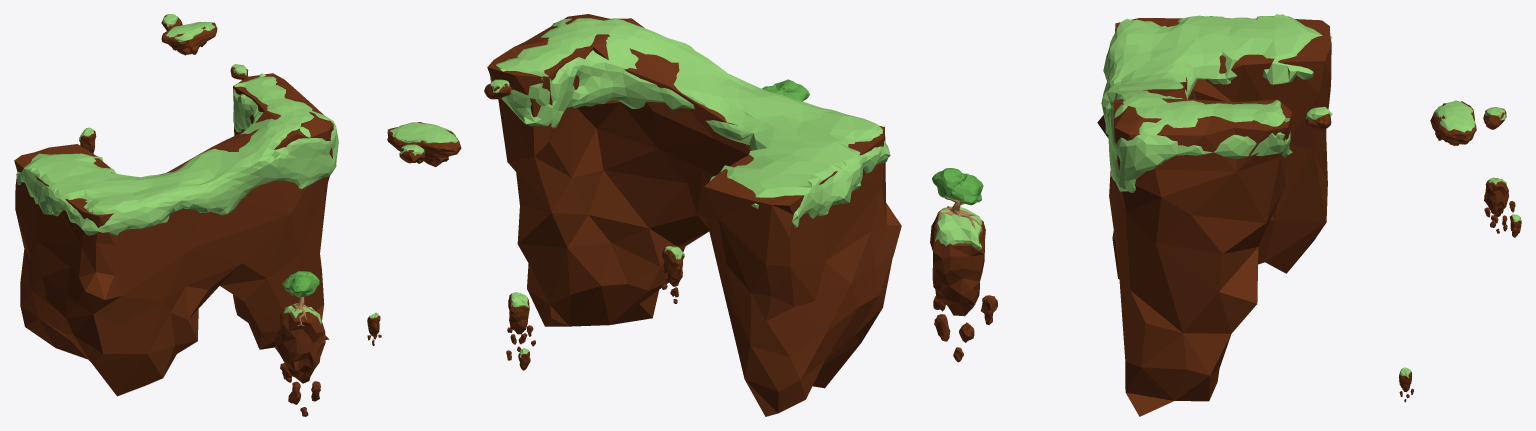
File: Uno_Isola7.fbx
The picture shows the model from 3 angles, left to right: view 1: azimuth 30°, elevation 25°; view 2: azimuth 150°, elevation 25°; view 3: azimuth 270°, elevation 25°; orthographic projection. The views are drawn at different scales.
Parts seen in each view (by area): view 1: Plane.012, Plane.022, Sphere.098, Mball.002, Sphere.040, Sphere.041; view 2: Plane.012, Plane.022, Sphere.041, Sphere.040, Sphere.091, Mball.002, Sphere.070; view 3: Plane.012, Plane.022, Sphere.098, Sphere.099, Mball.002, Sphere.041, Sphere.070, Sphere.040.
Boxes of the visible parts, box(x1,y1,x2,y2) form: Plane.012: box(14, 73, 333, 396); Plane.022: box(16, 73, 338, 235); Sphere.098: box(275, 310, 325, 383); Mball.002: box(282, 271, 319, 297); Sphere.040: box(161, 22, 217, 50); Sphere.041: box(166, 21, 214, 42); Plane.012: box(487, 14, 901, 416); Plane.022: box(490, 18, 890, 227); Sphere.041: box(390, 122, 458, 143); Sphere.040: box(387, 122, 461, 161); Sphere.091: box(662, 248, 684, 286); Mball.002: box(762, 79, 809, 101); Sphere.070: box(508, 294, 529, 334); Plane.012: box(1097, 18, 1331, 416); Plane.022: box(1101, 14, 1331, 192); Sphere.098: box(930, 213, 985, 316); Sphere.099: box(935, 206, 982, 249); Mball.002: box(932, 168, 983, 205); Sphere.041: box(1433, 100, 1475, 132); Sphere.070: box(1484, 181, 1508, 216); Sphere.040: box(1430, 101, 1476, 145).
Bounding box in the file's own units: 618 × 467 × 812.
